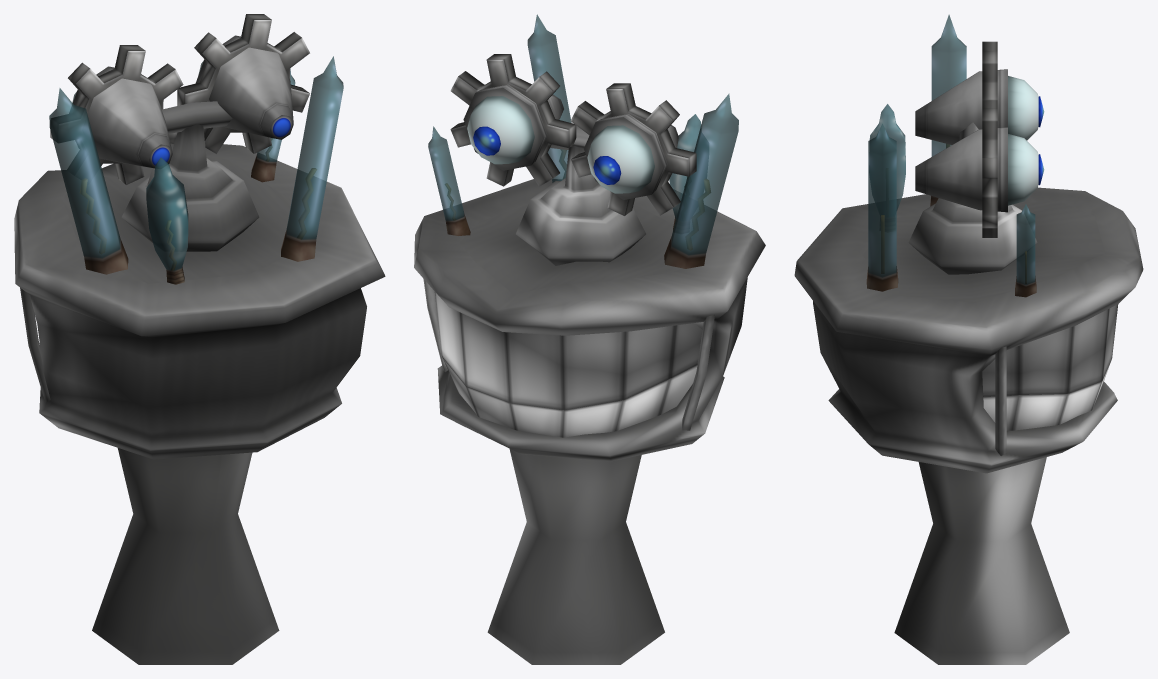
Rendered from skelecog_c.glb.
3 views of the same model, side by side, from view 1: azimuth 30°, elevation 25°; view 2: azimuth 150°, elevation 25°; view 3: azimuth 270°, elevation 25° (orthographic). The views are drawn at different scales.
Parts seen in each view (by area): view 1: Object.002; view 2: Object.002; view 3: Object.002.
Boxes of the visible parts, bbox=[...] form: Object.002: bbox=[14, 14, 385, 664]; Object.002: bbox=[414, 14, 765, 664]; Object.002: bbox=[794, 14, 1143, 664].
Bounding box in the file's own units: 0.7185 × 1.23 × 0.7026.
1 material, 1 textured.
